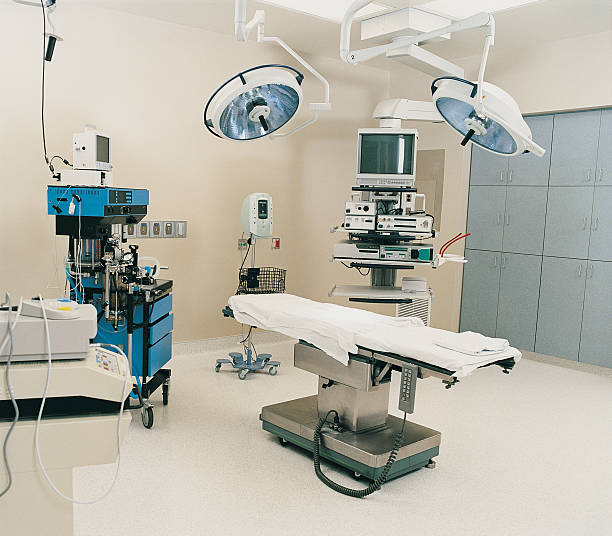bedside_monitor: (353, 129, 421, 182), (70, 126, 116, 186), (240, 190, 278, 240)
cabinet: (462, 105, 612, 377)
handle: (499, 169, 504, 185), (508, 169, 513, 185), (586, 167, 591, 183), (599, 167, 604, 183), (583, 216, 588, 232), (594, 216, 599, 232), (506, 214, 511, 230), (496, 214, 501, 230), (589, 264, 594, 279), (579, 265, 584, 280), (493, 255, 498, 270), (502, 256, 507, 271)
medical_drawer: (70, 277, 180, 375)
operating_bed: (224, 290, 523, 485)
surgical_light: (207, 63, 308, 143), (432, 80, 527, 157)
